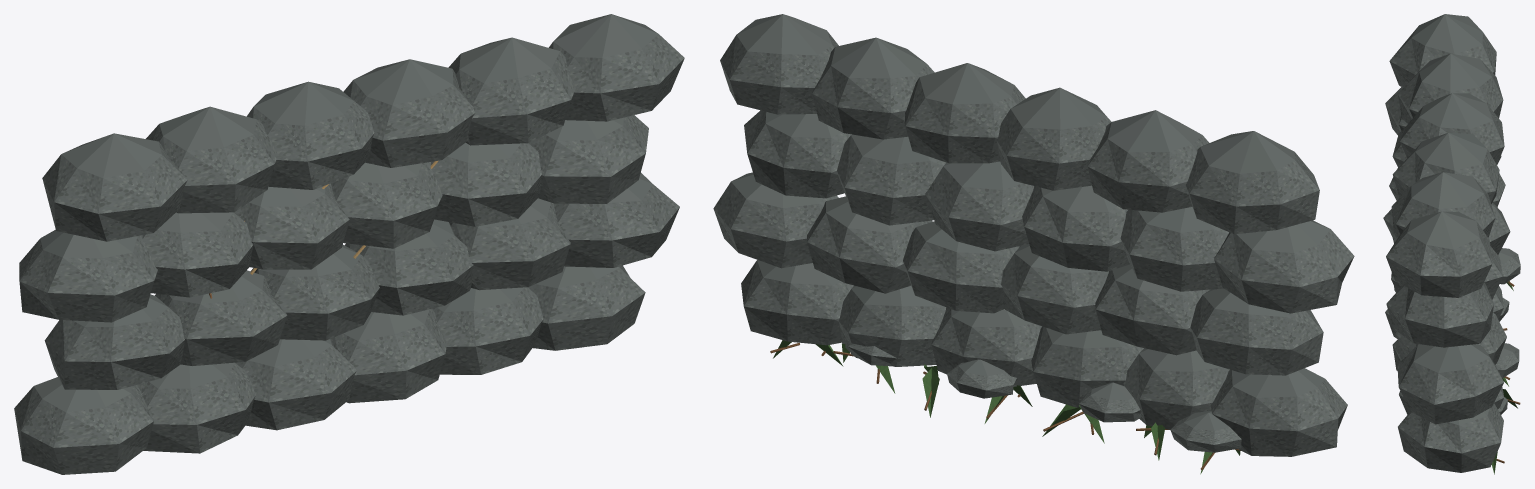
The model's file is en-014_cave_wall_module__straight.obj.
3 views of the same model, side by side, from view 1: azimuth 30°, elevation 25°; view 2: azimuth 150°, elevation 25°; view 3: azimuth 270°, elevation 25° (orthographic). The views are drawn at different scales.
Parts seen in each view (by area): view 1: en-014_cave_wall_module__straight; view 2: en-014_cave_wall_module__straight; view 3: en-014_cave_wall_module__straight.
Boxes of the visible parts, box(x1,y1,x2,y2) form: en-014_cave_wall_module__straight: box(14, 14, 684, 474); en-014_cave_wall_module__straight: box(713, 14, 1354, 474); en-014_cave_wall_module__straight: box(1383, 14, 1520, 474).
Size of the model in its own units: 3.86 by 1.94 by 0.8646.
4 materials, 4 textured.
